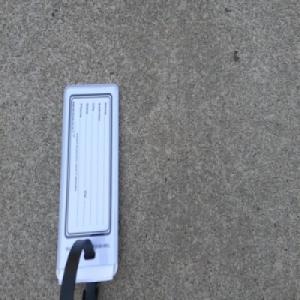LuggageTag: (53, 81, 121, 300)
